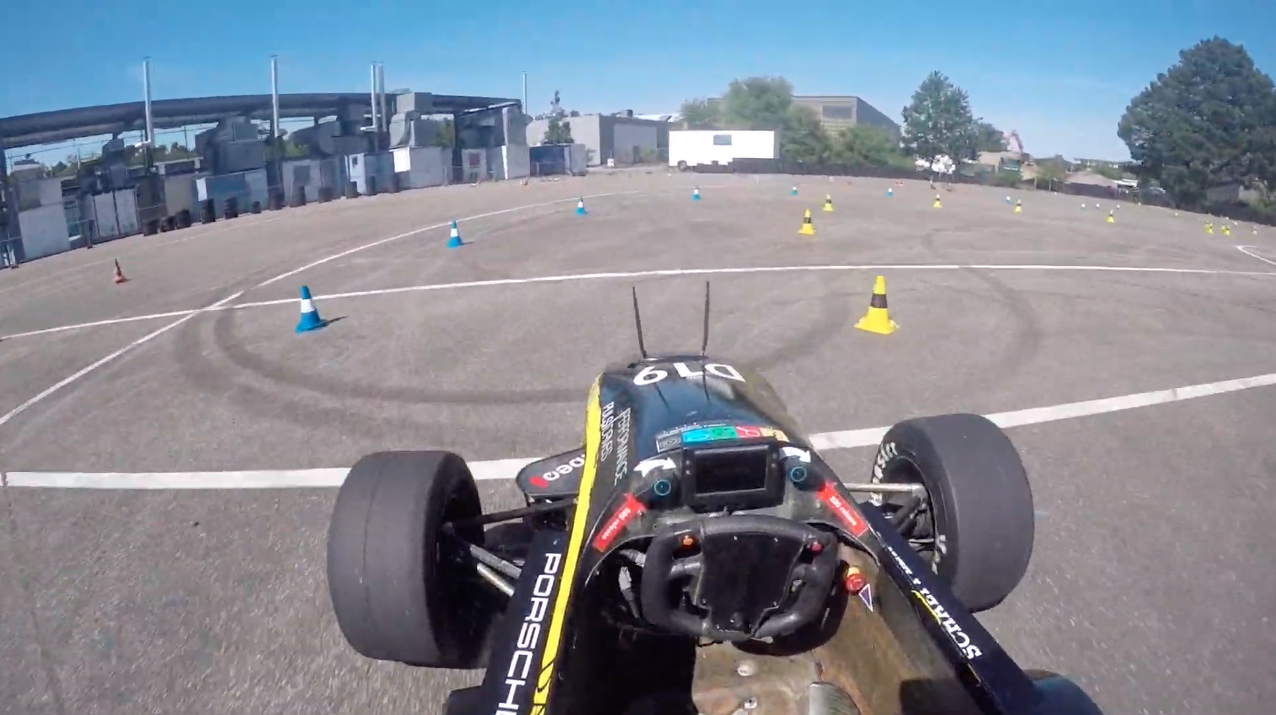lcone: (290, 284, 329, 337), (443, 218, 468, 249)
rcone: (852, 272, 905, 340), (794, 206, 823, 238)
